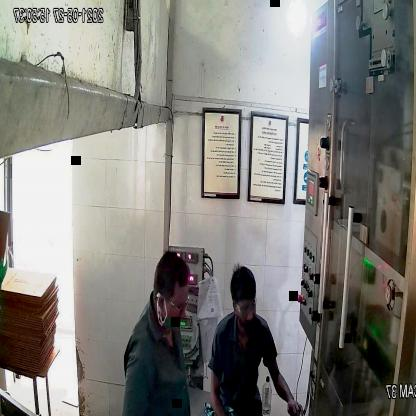goggles: (232, 294, 258, 318)
